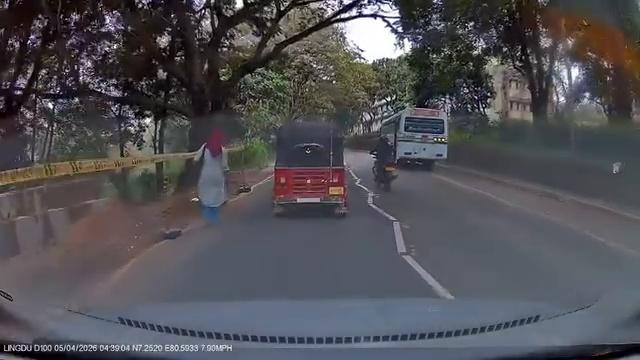illegal overtaking: (367, 139, 396, 199)
